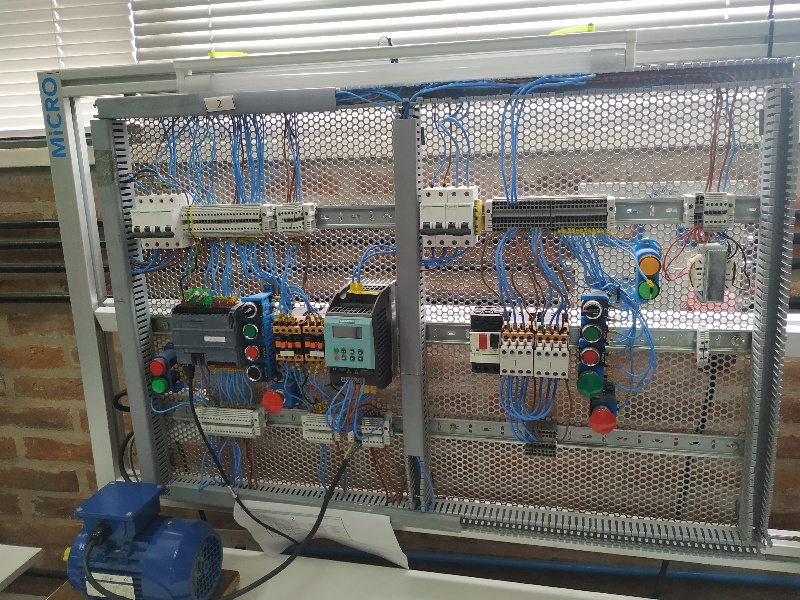Tablero 2: (100, 103, 763, 542)
